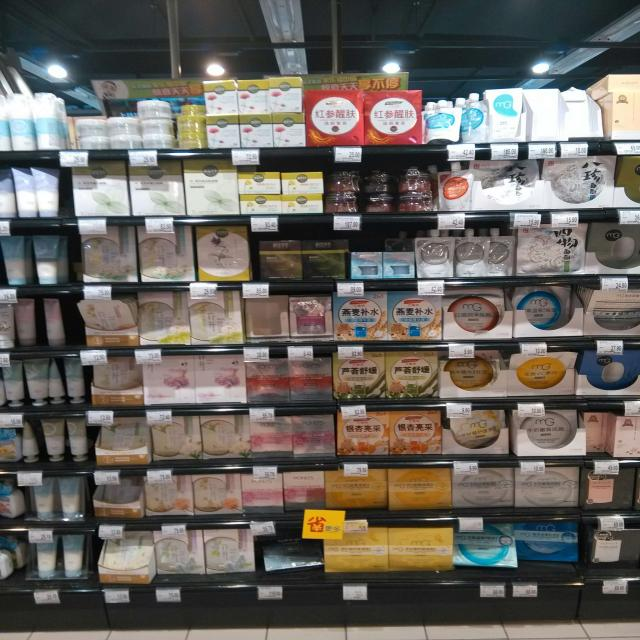unorganised: (259, 238, 351, 278), (455, 524, 517, 572), (426, 97, 489, 143), (474, 162, 538, 204), (507, 350, 575, 388), (259, 531, 322, 572), (589, 222, 640, 269), (516, 526, 579, 564), (578, 348, 636, 388), (518, 288, 574, 327), (81, 292, 135, 326), (364, 166, 394, 214), (41, 298, 68, 350), (99, 473, 140, 505), (584, 412, 611, 455), (12, 300, 35, 346), (19, 418, 40, 461), (47, 361, 66, 407)
